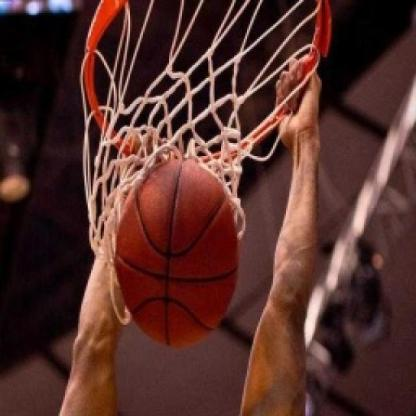basketball: (106, 153, 248, 356)
